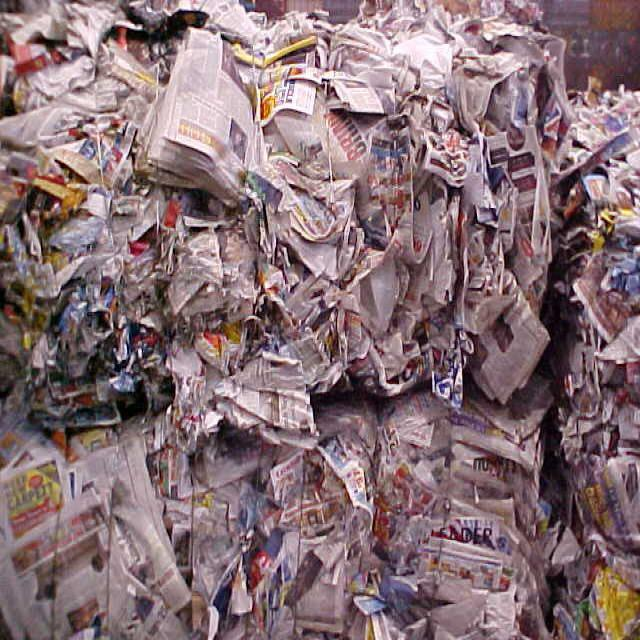Kertas: (39, 57, 612, 608)
